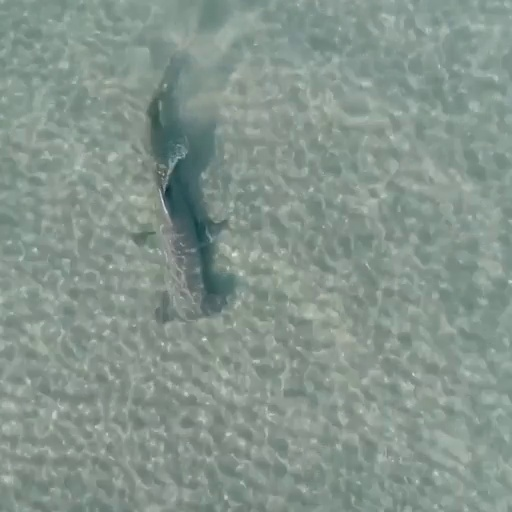shark: (125, 53, 234, 324)
